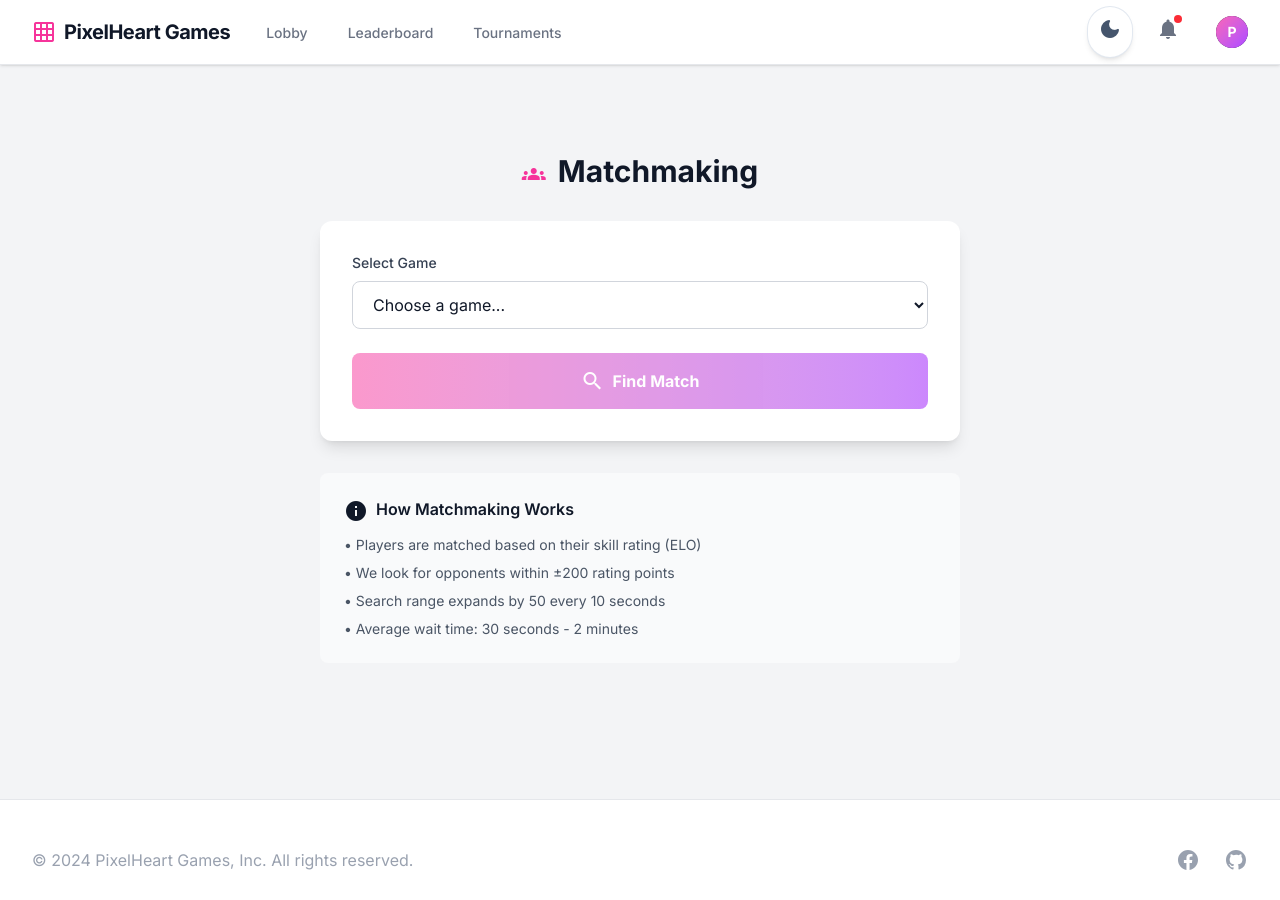
Test: MatchmakingPage › Find Match button enables after selecting a game
This screenshot has width=1280, height=900.
Select "Cờ Caro" in the dropdown: {"x": 640, "y": 305} [352, 281, 928, 329]
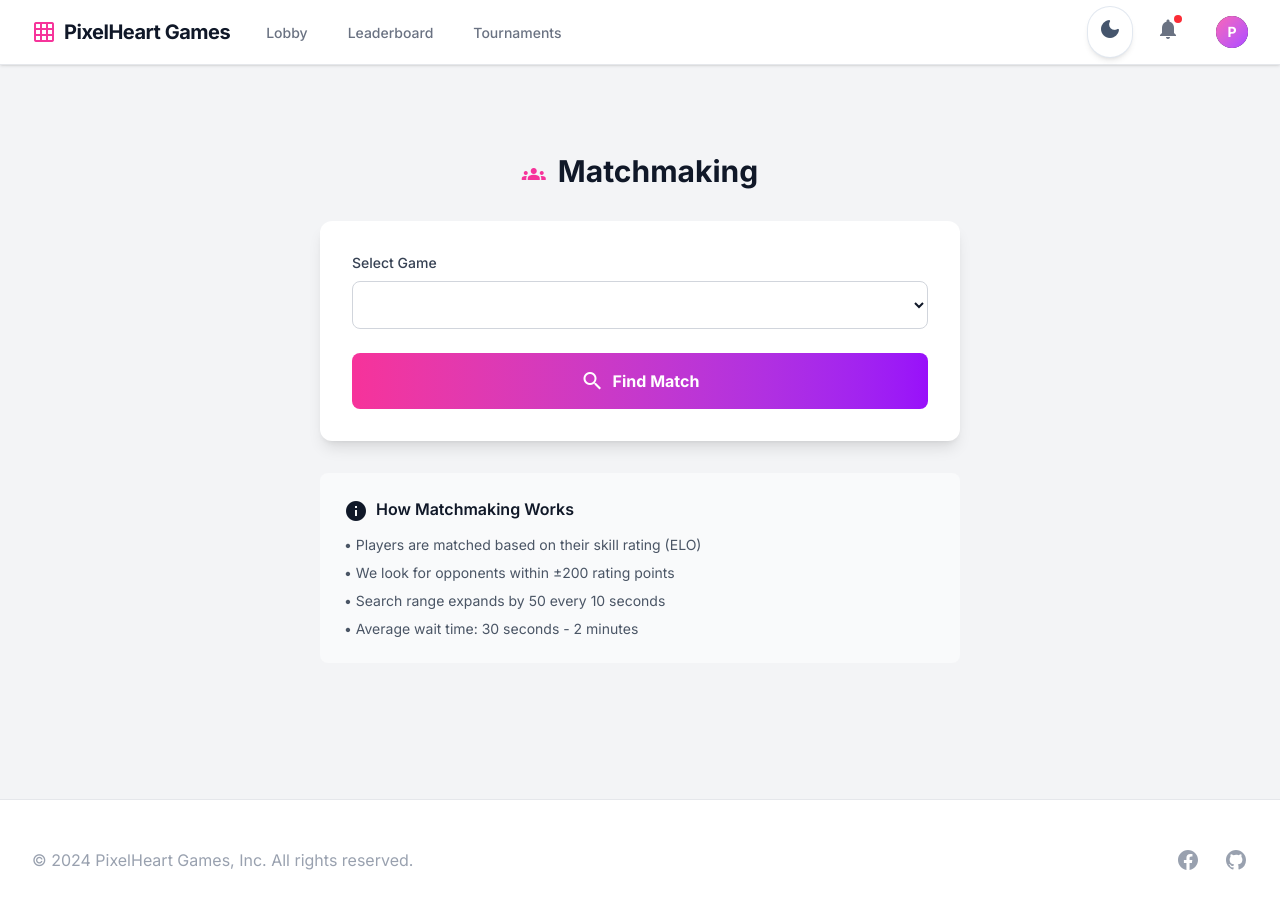
expect the button "Find Match" is enabled: met, box [352, 353, 928, 409]
